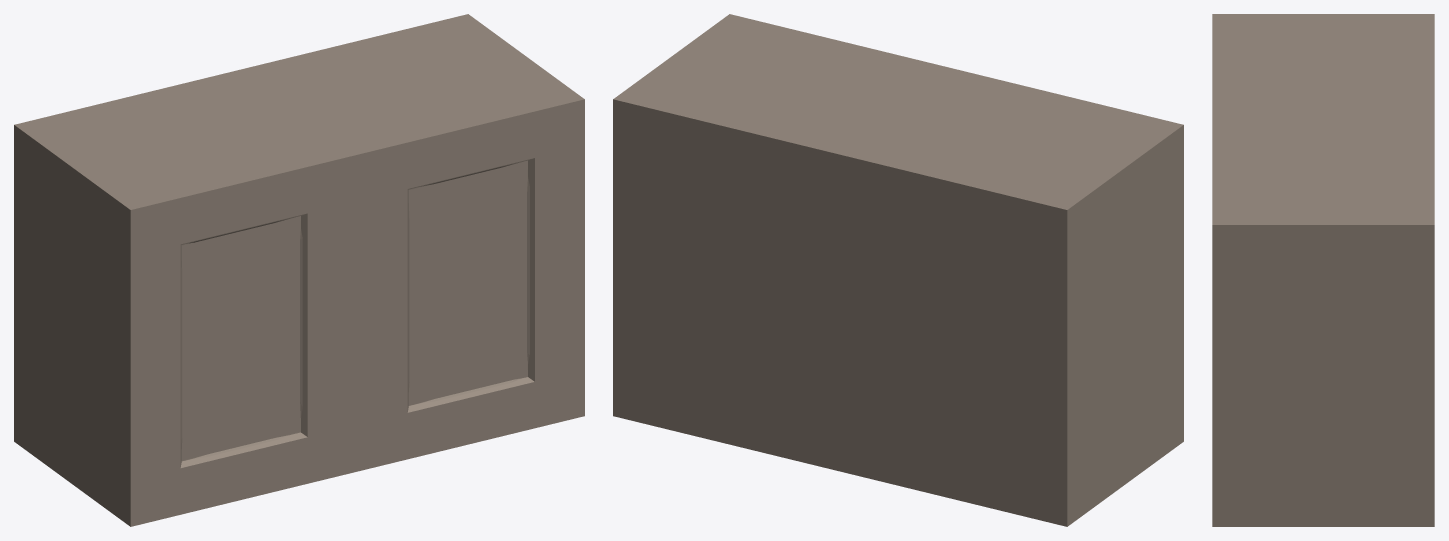
Rendered from Wall-Cabinet-18-High-12-Deep_std_001_W27in.glb.
The picture shows the model from 3 angles, left to right: view 1: azimuth 30°, elevation 25°; view 2: azimuth 150°, elevation 25°; view 3: azimuth 270°, elevation 25°; orthographic projection. The views are drawn at different scales.
Parts seen in each view (by area): view 1: Wall-Cabinet-18-High-12-Deep.std.001_W27in; view 2: Wall-Cabinet-18-High-12-Deep.std.001_W27in; view 3: Wall-Cabinet-18-High-12-Deep.std.001_W27in.
Part boxes in pixels (<box>): Wall-Cabinet-18-High-12-Deep.std.001_W27in: <box>14,14,584,526</box>; Wall-Cabinet-18-High-12-Deep.std.001_W27in: <box>613,14,1183,526</box>; Wall-Cabinet-18-High-12-Deep.std.001_W27in: <box>1212,14,1434,526</box>.
Bounding box in the file's own units: 0.6858 × 0.4572 × 0.3048.
